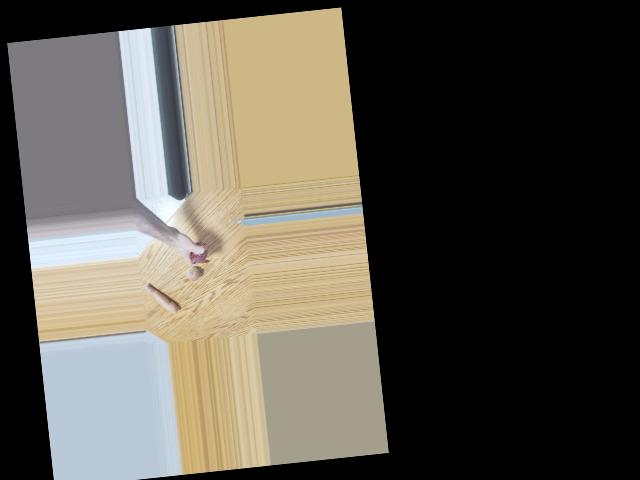onion: (180, 261, 199, 281)
